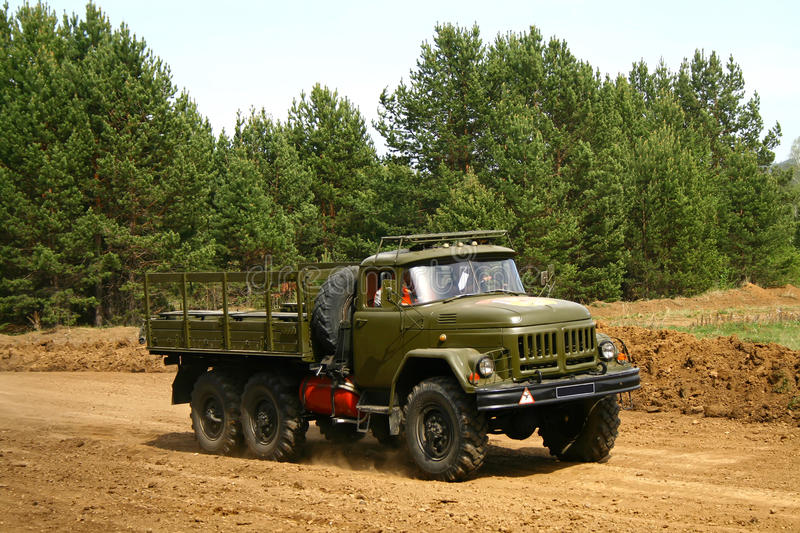camion: (149, 235, 636, 480)
